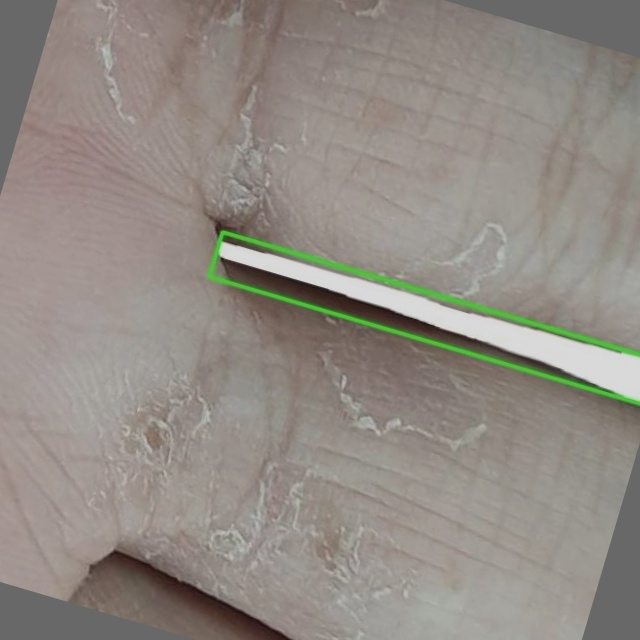Atopic Dermatitis: (209, 232, 639, 403)
